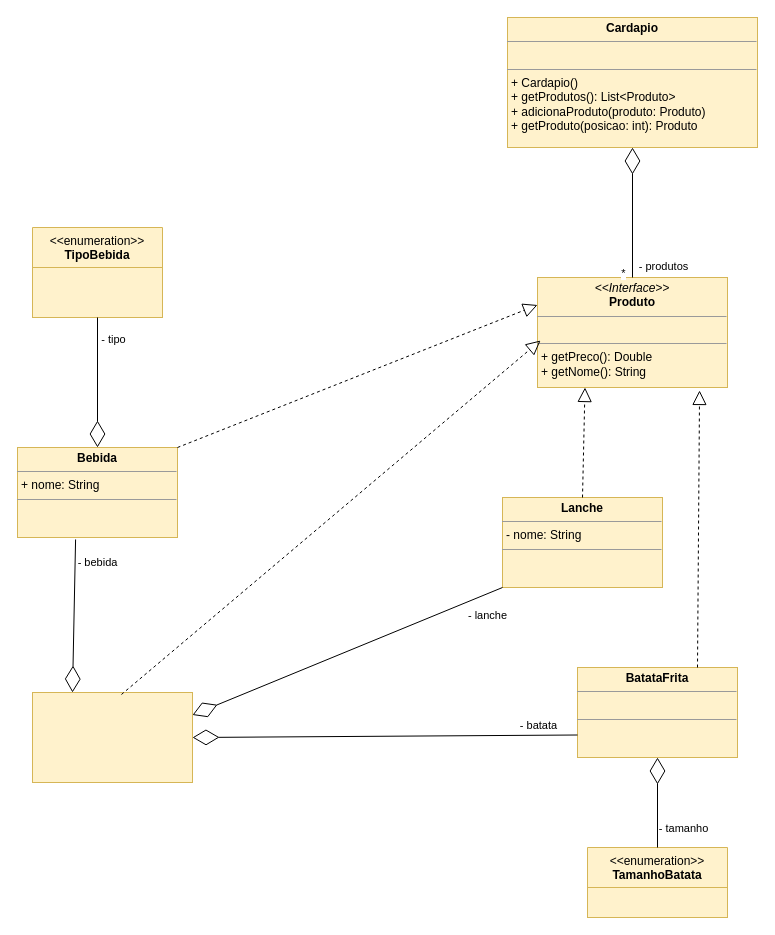
Image size: 775x935. Some labels were removed from this diagram. Here are the shapes that lost their labels. From the top down, the box of each, then its label:
(32, 266, 162, 318): SUCO, REFRIGERANTE
(32, 692, 192, 782): Combo
(586, 886, 728, 918): PEQUENA, MEDIA, GRANDE
